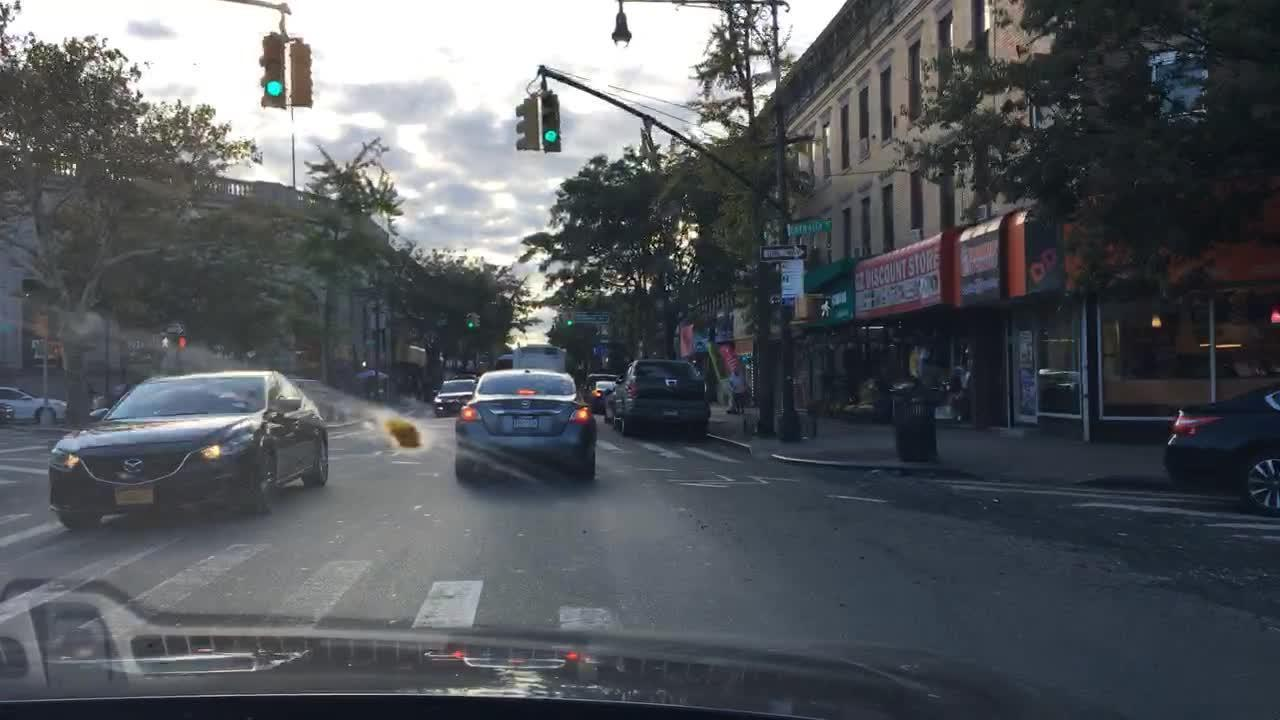Mazda: (122, 457, 145, 472)
